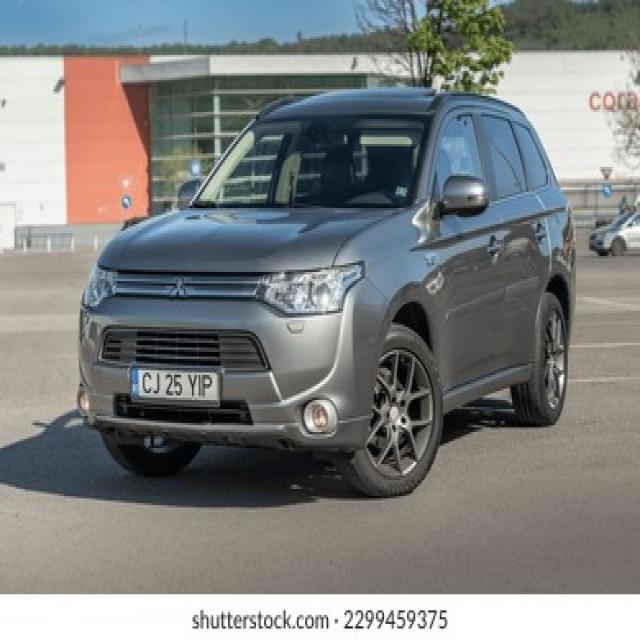light_vehicle: (76, 87, 580, 498)
